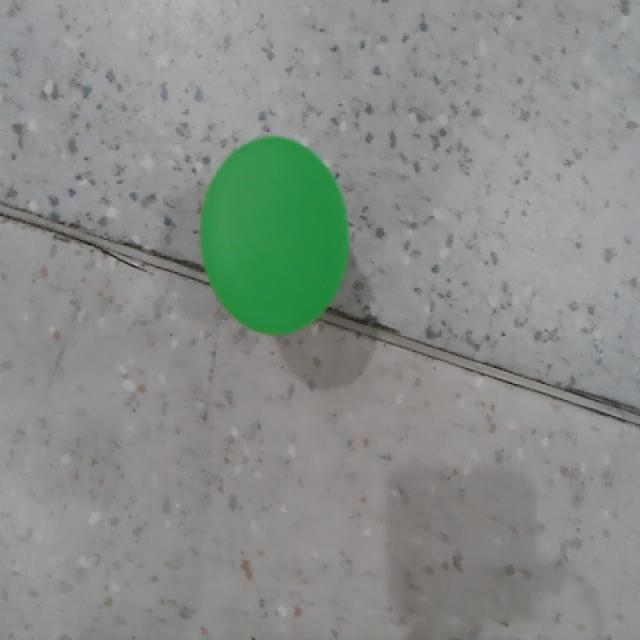g: (200, 136, 350, 336)
